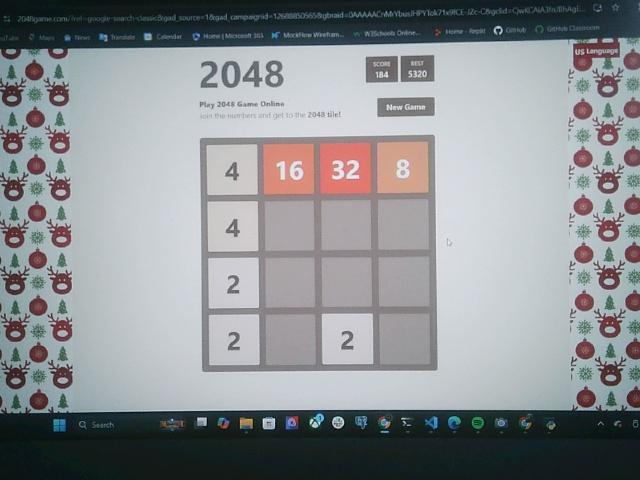board: (199, 138, 437, 371)
tile: (378, 140, 429, 193), (208, 200, 259, 253), (321, 142, 372, 194), (209, 314, 259, 367), (263, 143, 314, 194), (208, 144, 258, 196), (208, 259, 260, 308), (324, 314, 374, 364)
